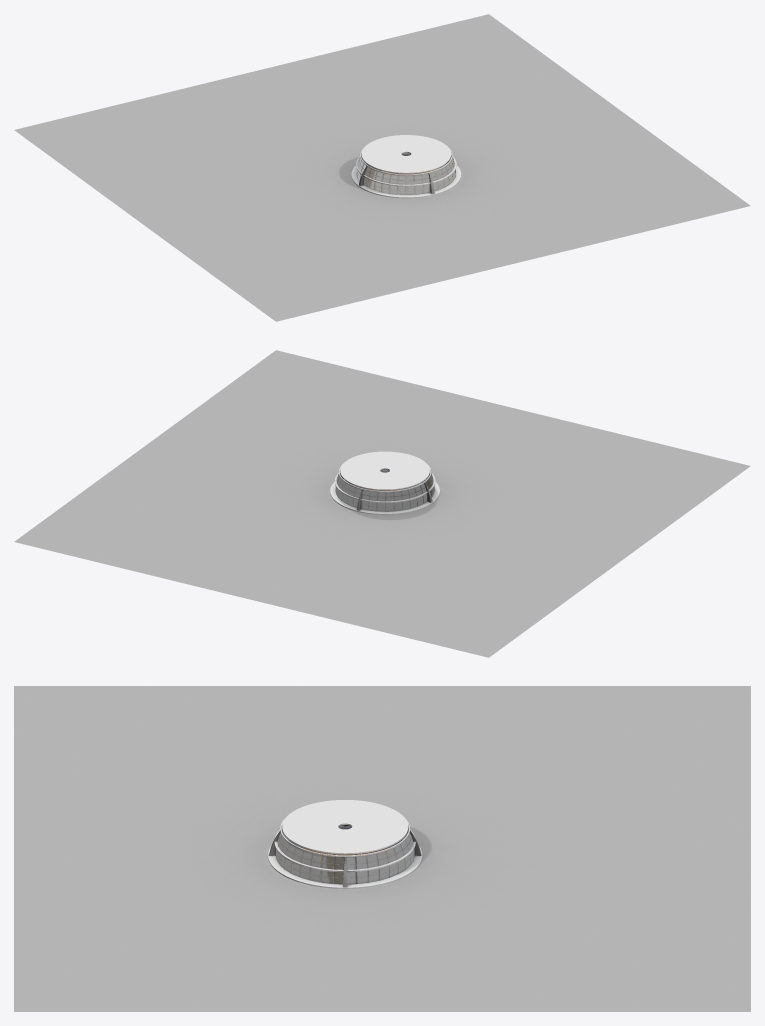
File: Circular showroom-001.fbx
3 views of the same model, one above another, from view 1: azimuth 30°, elevation 25°; view 2: azimuth 150°, elevation 25°; view 3: azimuth 270°, elevation 25° (orthographic). The views are drawn at different scales.
Visible parts, largest first — view 1: Object001; view 2: Object001; view 3: Object001.
Part boxes in pixels (x1=…): Object001: x1=14, y1=14, x2=750, y2=321; Object001: x1=14, y1=350, x2=750, y2=657; Object001: x1=14, y1=686, x2=750, y2=1011.
Size of the model in its own units: 8667 by 370 by 8283.
Materials: 1 (1 with a texture image).
